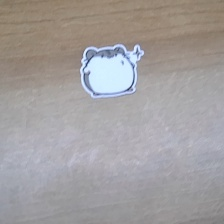mouse: (77, 43, 149, 102)
